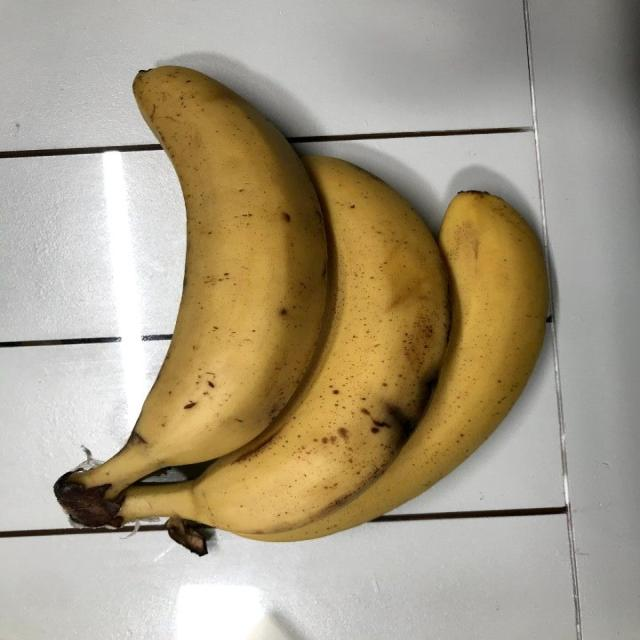unpeal banana: (118, 157, 449, 535), (56, 66, 327, 523), (248, 192, 548, 541)
